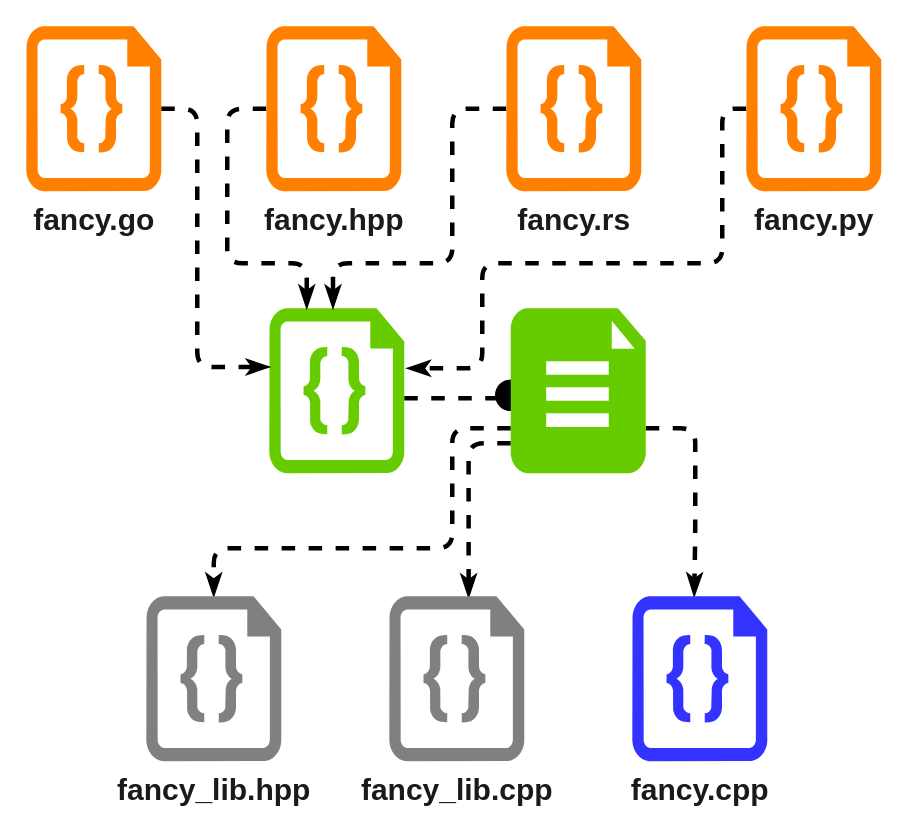
Some shapes in this 906 by 833 pixel diagram are drawn without their labels. Each missing label, with the centre of its shape:
fancy.h: pixel 336 390
libfancy.so: pixel 577 390
